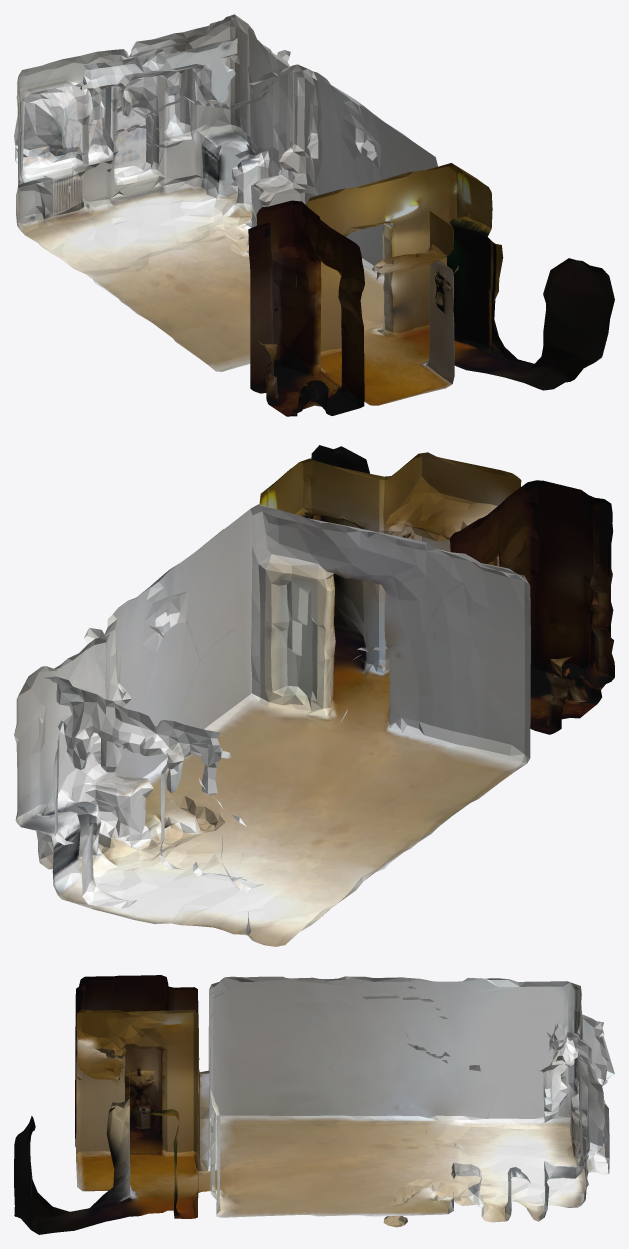
File: meraner45.glb
3 renders of one model, top to bottom at view 1: azimuth 30°, elevation 25°; view 2: azimuth 150°, elevation 25°; view 3: azimuth 270°, elevation 25°, orthographic. The views are drawn at different scales.
Bounding box in the file's own units: 5.2 × 3.11 × 10.23.
1 material, 1 textured.
